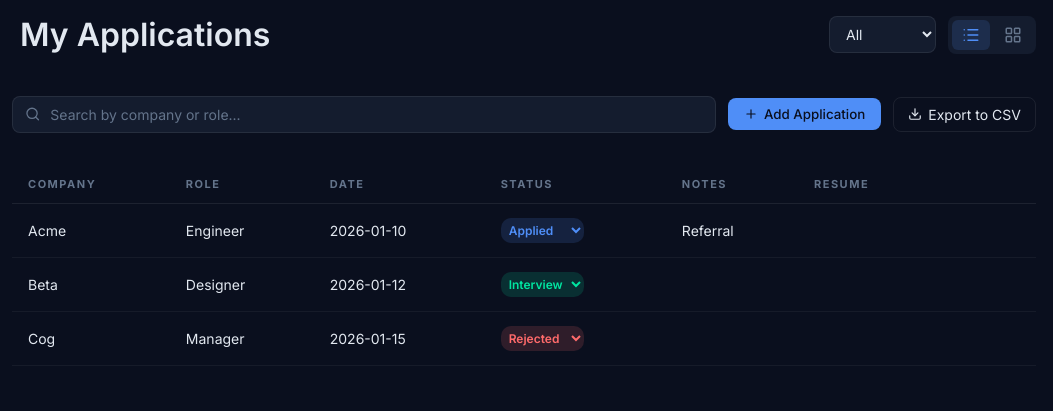
Test: Applied — list with data › shows 'No results found' when search has no matches
This screenshot has width=1053, height=411.
Step 1. Type "zzz" into the field with placeholder "Search by company or role..." → (376, 114), box [48,105,703,124]
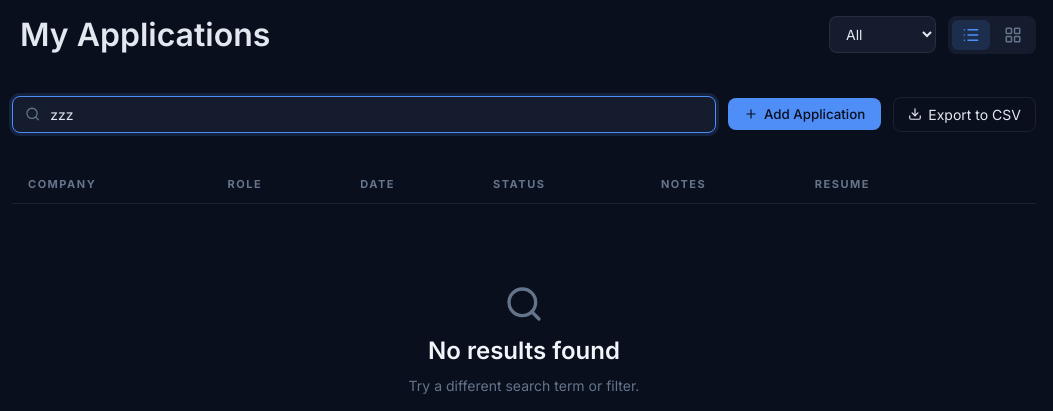
Expected: the heading "No results found" is shown, [428,336,620,365]
